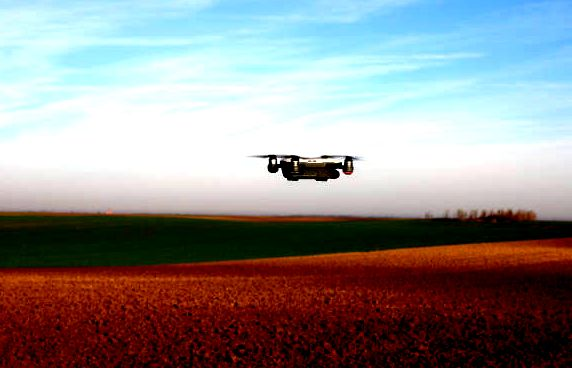Drone: (243, 149, 365, 184)
